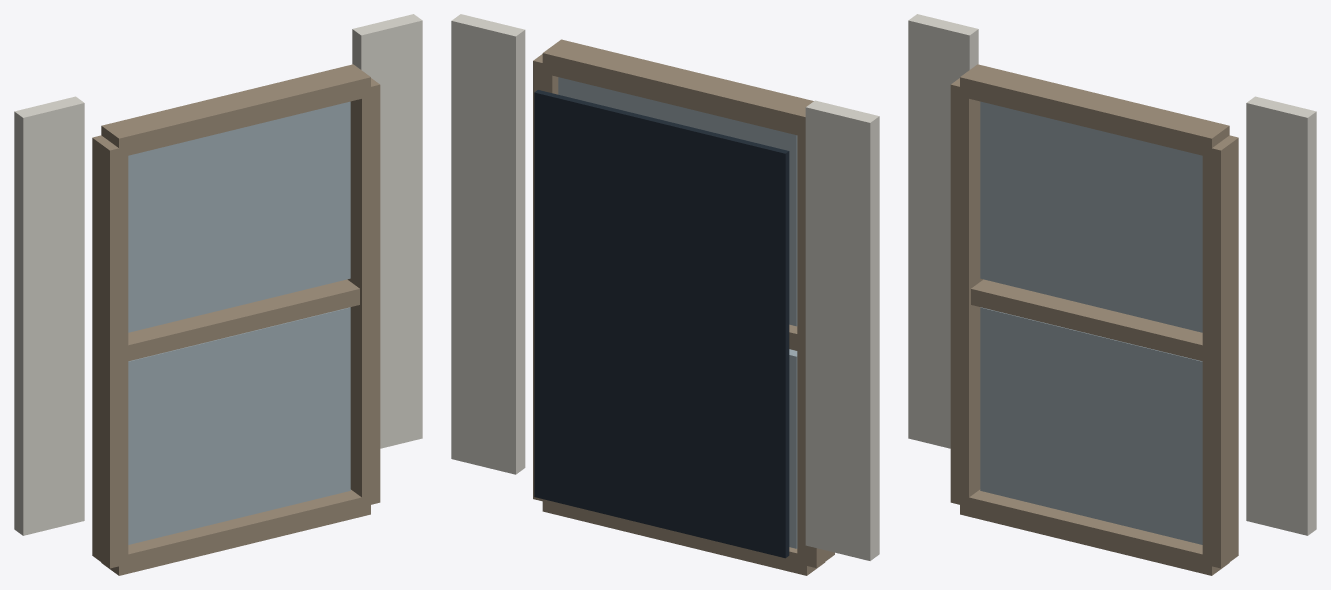
File: prop_window.fbx
3 views of the same model, side by side, from view 1: azimuth 30°, elevation 25°; view 2: azimuth 150°, elevation 25°; view 3: azimuth 330°, elevation 25° (orthographic). The views are drawn at different scales.
Visible parts, largest first — view 1: Win_Glass_B, Win_Glass_T, Win_Curtain_L, Win_Curtain_R, Win_Frame_L, Win_Frame_R, Win_Frame_T, Win_Frame_B, Win_Divider; view 2: Win_Exterior, Win_Curtain_L, Win_Curtain_R, Win_Frame_T, Win_Glass_T, Win_Frame_L, Win_Frame_B, Win_Glass_B, Win_Frame_R; view 3: Win_Glass_B, Win_Glass_T, Win_Curtain_R, Win_Curtain_L, Win_Frame_R, Win_Frame_L, Win_Frame_T, Win_Frame_B, Win_Divider.
Boxes of the visible parts, <box> form: Win_Glass_B: <box>128,307,350,544</box>; Win_Glass_T: <box>128,101,350,332</box>; Win_Curtain_L: <box>14,96,84,535</box>; Win_Curtain_R: <box>352,14,422,448</box>; Win_Frame_L: <box>92,135,128,568</box>; Win_Frame_R: <box>347,78,380,506</box>; Win_Frame_T: <box>101,64,370,157</box>; Win_Frame_B: <box>101,489,370,575</box>; Win_Divider: <box>128,279,359,361</box>; Win_Exterior: <box>534,90,789,558</box>; Win_Curtain_L: <box>805,100,879,560</box>; Win_Curtain_R: <box>451,14,525,474</box>; Win_Frame_T: <box>542,39,813,135</box>; Win_Glass_T: <box>558,77,797,326</box>; Win_Frame_L: <box>797,125,834,567</box>; Win_Frame_B: <box>542,499,825,575</box>; Win_Glass_B: <box>789,349,797,548</box>; Win_Frame_R: <box>533,54,558,501</box>; Win_Glass_B: <box>980,307,1202,544</box>; Win_Glass_T: <box>980,101,1202,332</box>; Win_Curtain_R: <box>1246,96,1316,535</box>; Win_Curtain_L: <box>908,14,978,448</box>; Win_Frame_R: <box>1202,135,1238,568</box>; Win_Frame_L: <box>950,78,983,506</box>; Win_Frame_T: <box>960,64,1229,157</box>; Win_Frame_B: <box>960,489,1229,575</box>; Win_Divider: <box>971,279,1202,361</box>.
Bounding box in the file's own units: 130 × 143 × 18.
